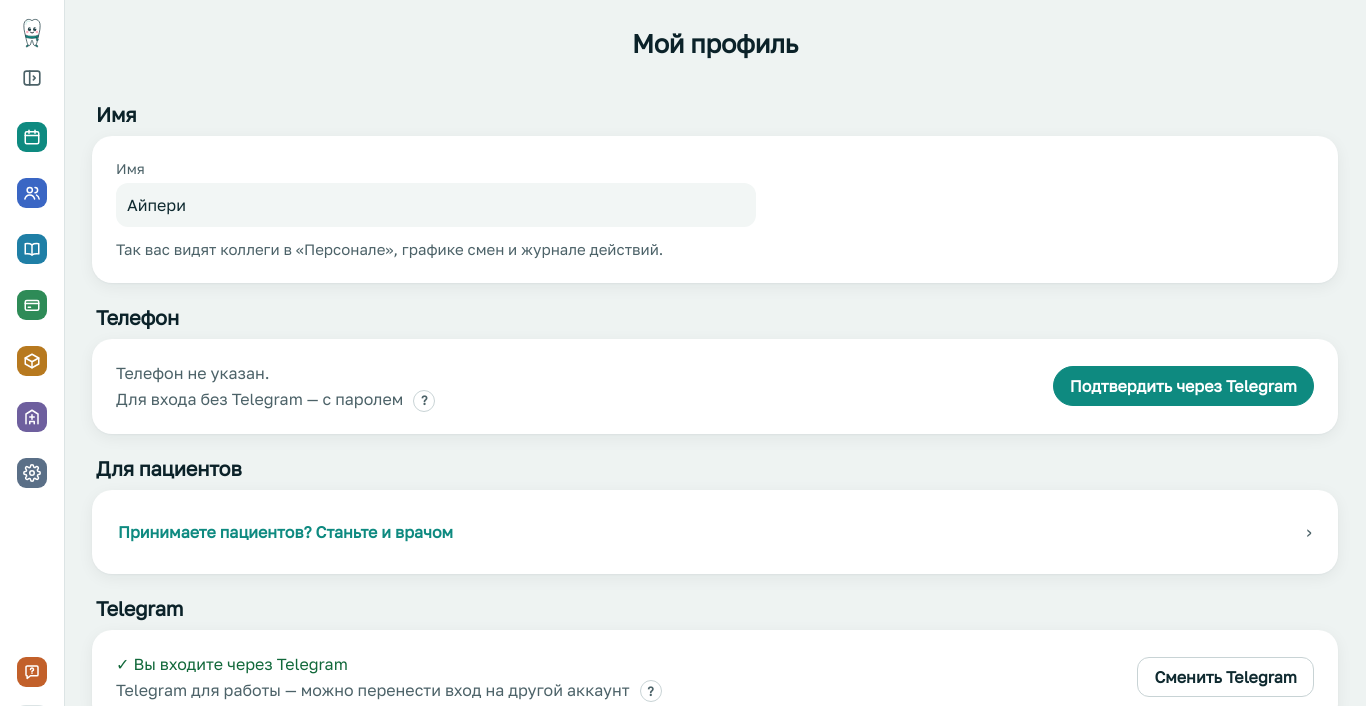
Scenario: «Подтвердить через Telegram» в Mini App: Telegram отдаёт номер боту — номер появляется без кода
Click the button "Подтвердить через Telegram" at {"x": 1183, "y": 386}, box left=1053, top=366, right=1314, bottom=406
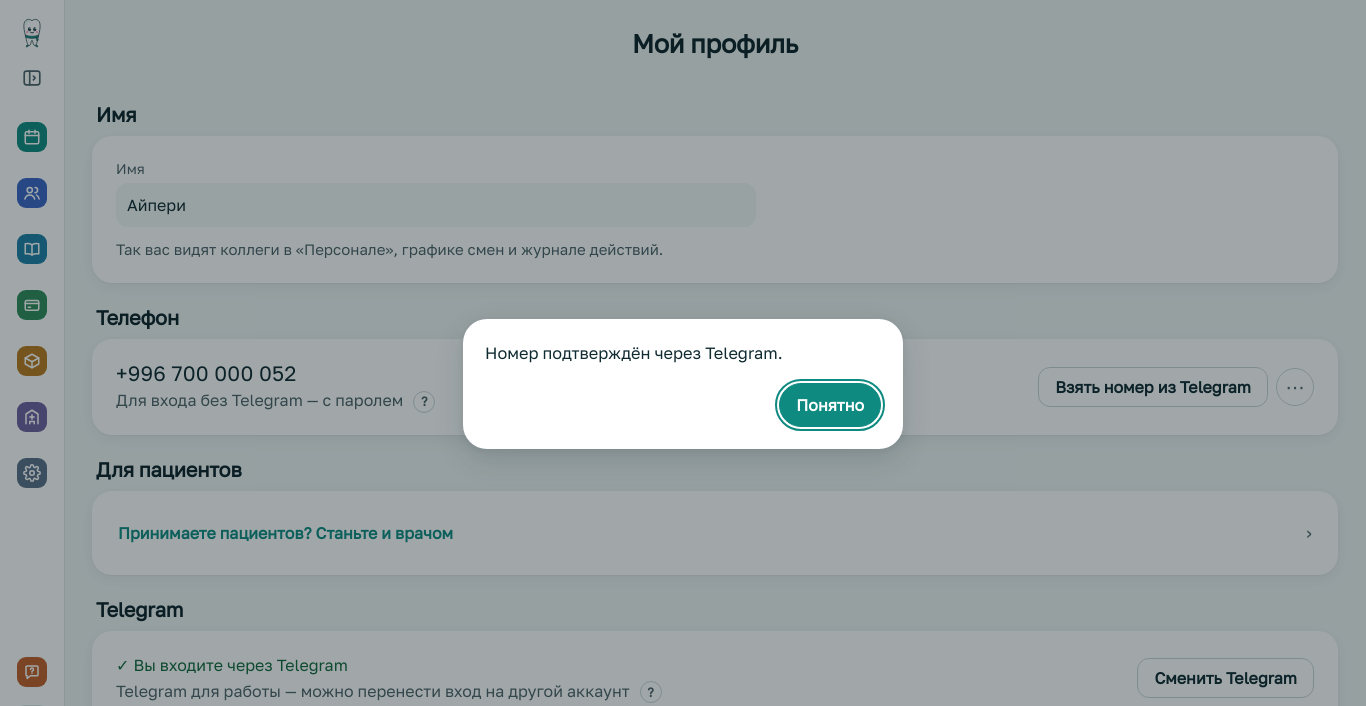
Expected: the text "+996 700 000 052" is shown, left=116, top=361, right=297, bottom=386
